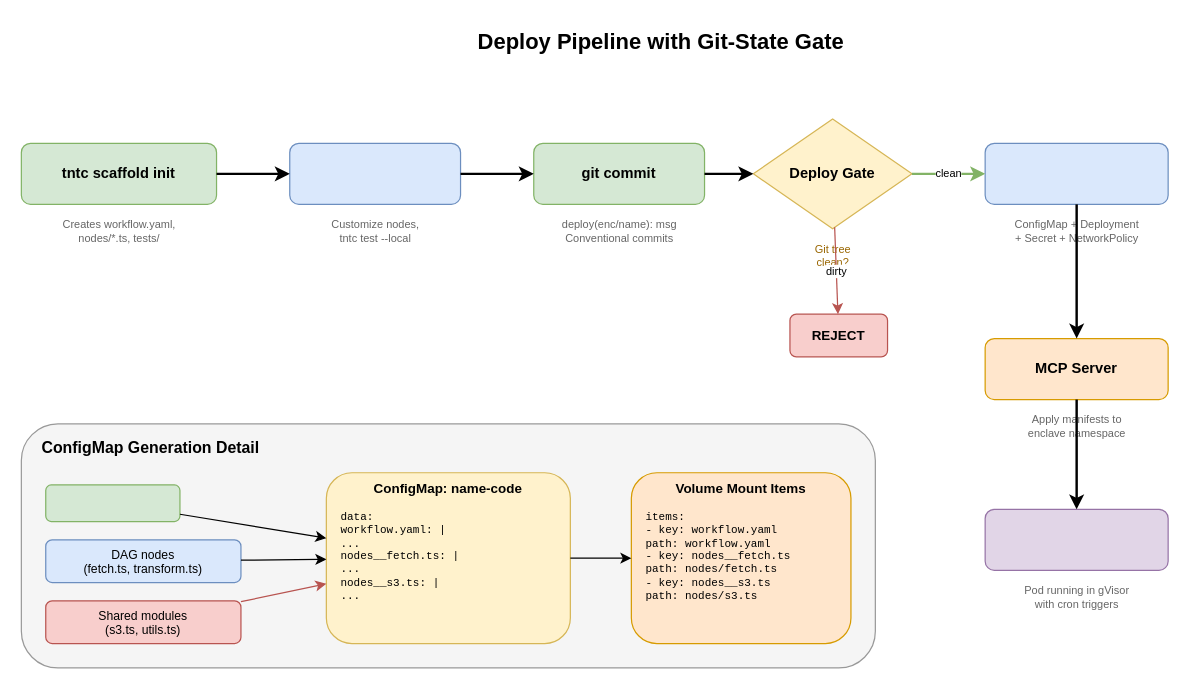
Some shapes in this 1190 by 689 pixel diagram are drawn without their labels. The shapes that lost their labels are listed below. From the top down, each one's box as (x1, y1, x2, y2) in pixels, then its label:
(289, 142, 461, 204): Edit & Test
(984, 142, 1168, 204): Build Manifests
(45, 484, 180, 522): workflow.yaml
(984, 508, 1168, 570): Kubernetes
